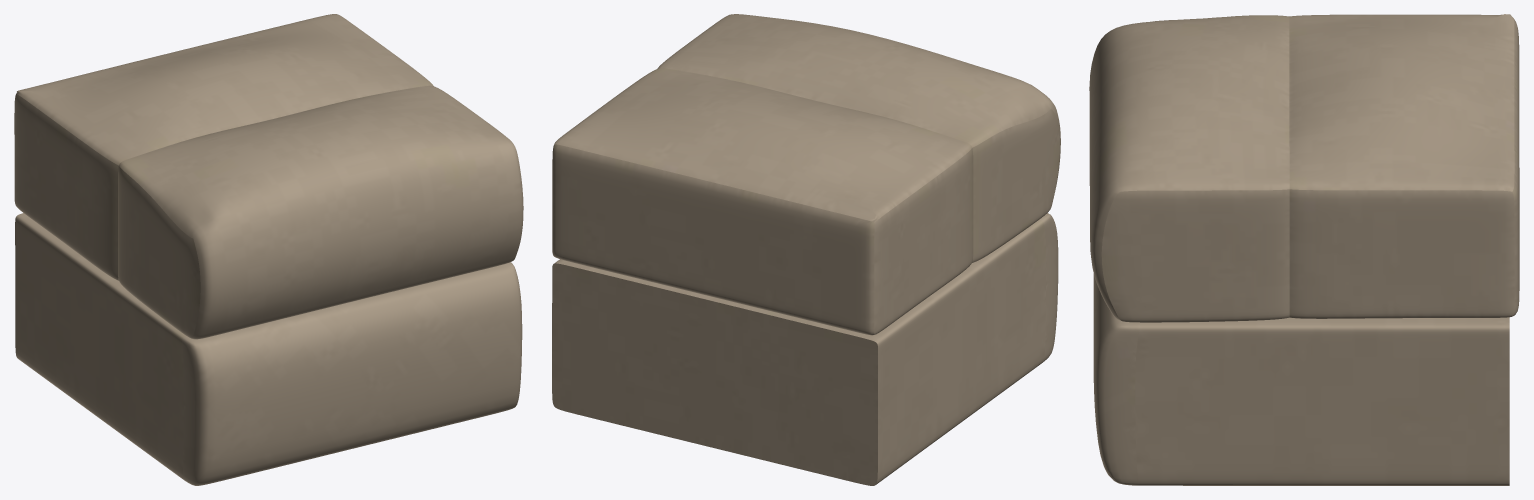
The model's file is sofa_long_part.glb.
3 renders of one model, left to right at view 1: azimuth 30°, elevation 25°; view 2: azimuth 150°, elevation 25°; view 3: azimuth 270°, elevation 25°, orthographic. The views are drawn at different scales.
Parts seen in each view (by area): view 1: SofaLongPart; view 2: SofaLongPart; view 3: SofaLongPart.
Part boxes in pixels (x1,y1,x2,y2): SofaLongPart: (14, 14, 523, 485); SofaLongPart: (552, 14, 1060, 485); SofaLongPart: (1089, 14, 1519, 485).
Size of the model in its own units: 0.55 by 0.4719 by 0.5642.
1 material, 1 textured.
